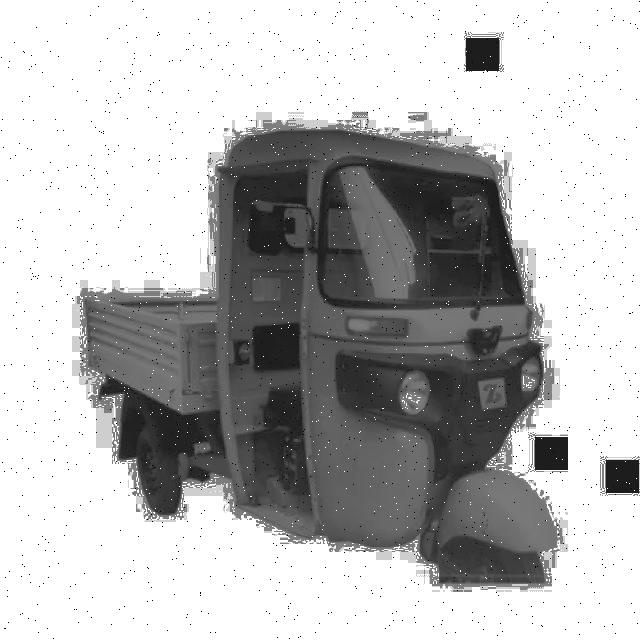Auto-Rickshaw: (80, 121, 583, 609)
